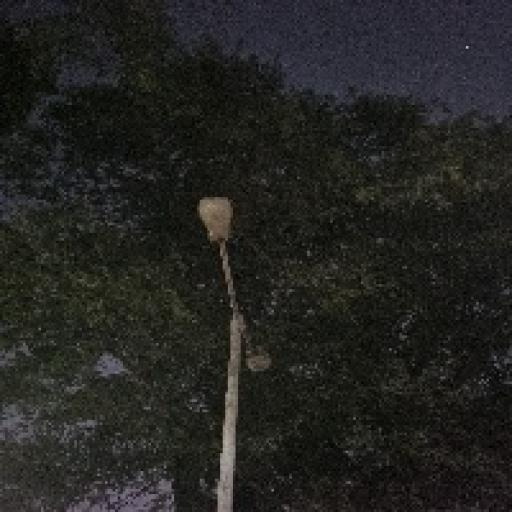Not Working: (185, 185, 243, 256), (234, 332, 282, 390)
